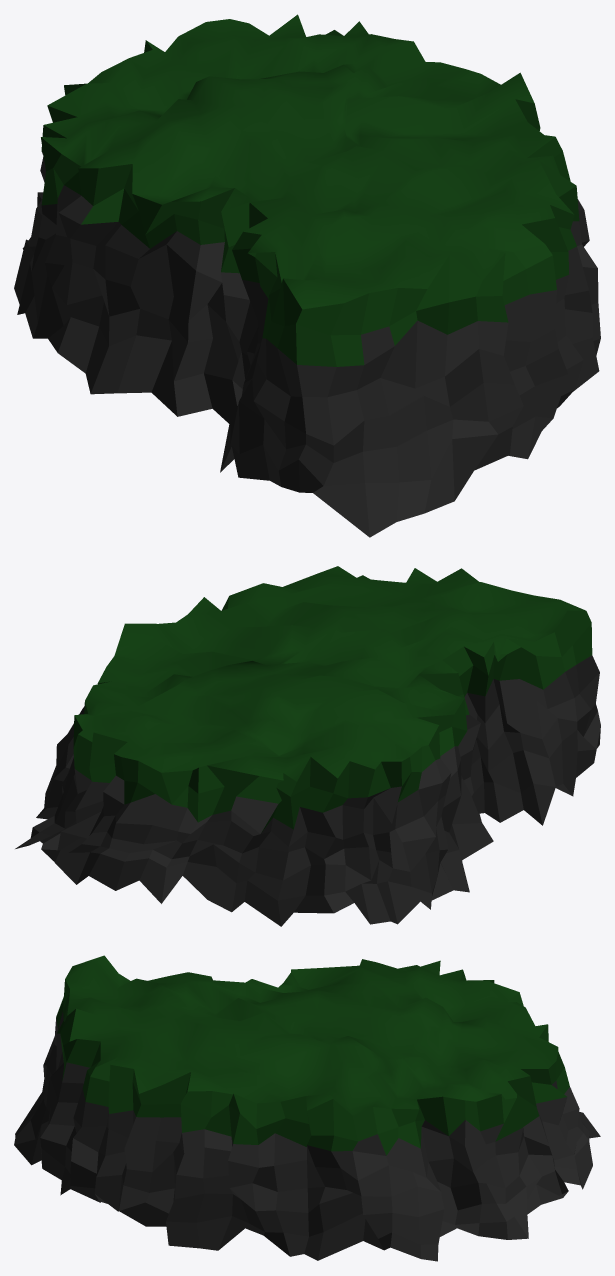
The model's file is mountain2.fbx.
3 views of the same model, one above another, from view 1: azimuth 30°, elevation 25°; view 2: azimuth 150°, elevation 25°; view 3: azimuth 270°, elevation 25° (orthographic). The views are drawn at different scales.
Parts seen in each view (by area): view 1: mountain2; view 2: mountain2; view 3: mountain2.
Part boxes in pixels (box(x1,y1,x2,y2)): mountain2: box(14, 14, 600, 537); mountain2: box(15, 566, 600, 926); mountain2: box(14, 955, 600, 1261).
Bounding box in the file's own units: 7212 × 3423 × 10034.
